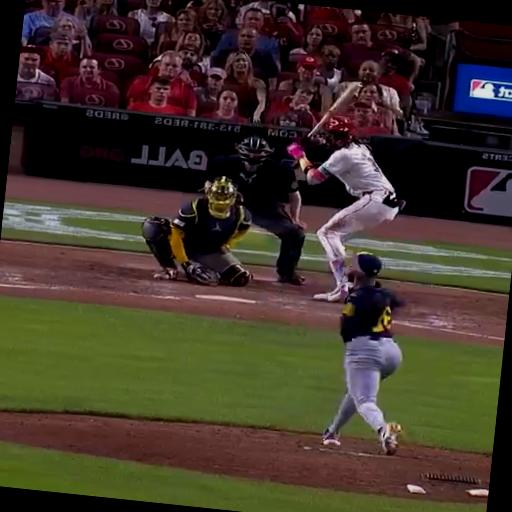bat: (307, 82, 360, 136)
